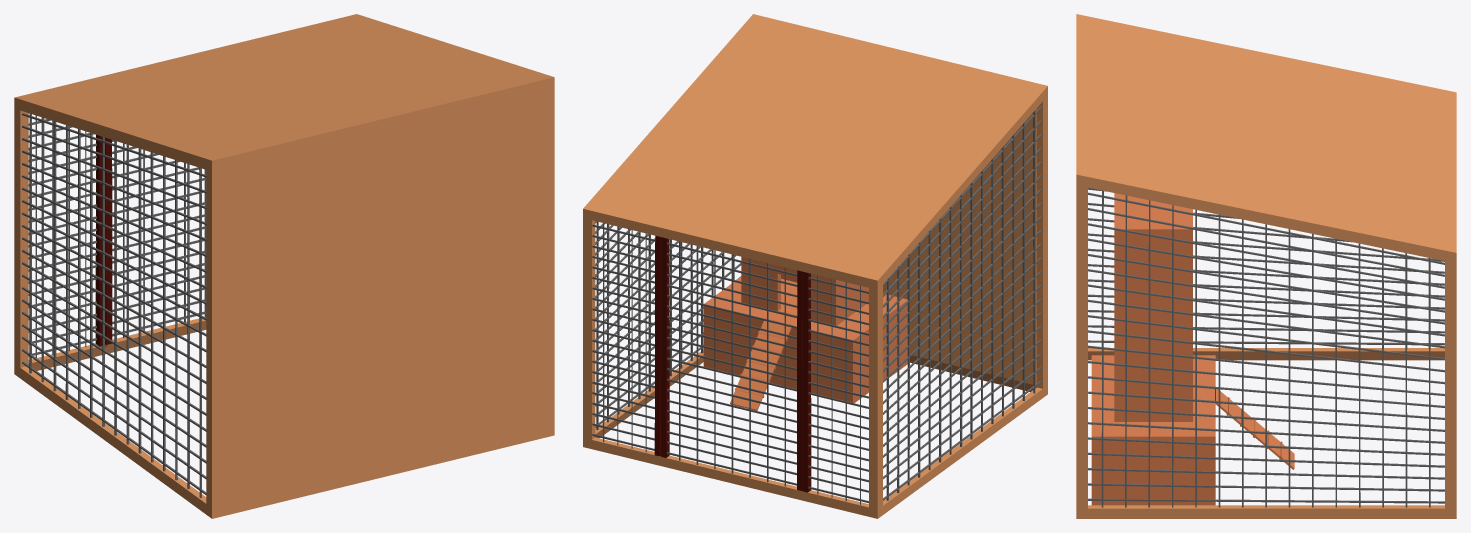
Rendered from coop.fbx.
The picture shows the model from 3 angles, left to right: view 1: azimuth 30°, elevation 25°; view 2: azimuth 150°, elevation 25°; view 3: azimuth 270°, elevation 25°; orthographic projection. The views are drawn at different scales.
Visible parts, largest first — view 1: coop, coopdoor; view 2: coop, coopdoor; view 3: coop.
Boxes of the visible parts, box(x1,y1,x2,y2) form: coop: box(14, 14, 554, 518); coopdoor: box(105, 137, 206, 344); coop: box(583, 14, 1047, 518); coopdoor: box(661, 237, 802, 490); coop: box(1076, 14, 1456, 518).
Bounding box in the file's own units: 30.1 × 30.11 × 30.1.
